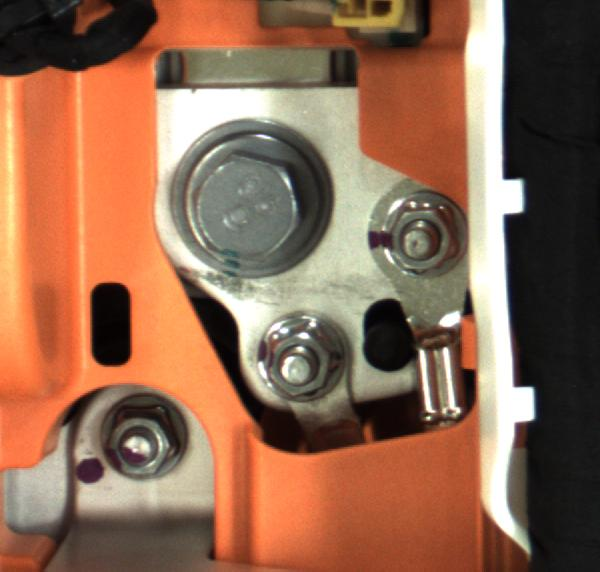nut_b: (171, 122, 340, 284)
screw_s: (257, 315, 358, 402), (377, 189, 459, 293), (93, 394, 188, 482)
